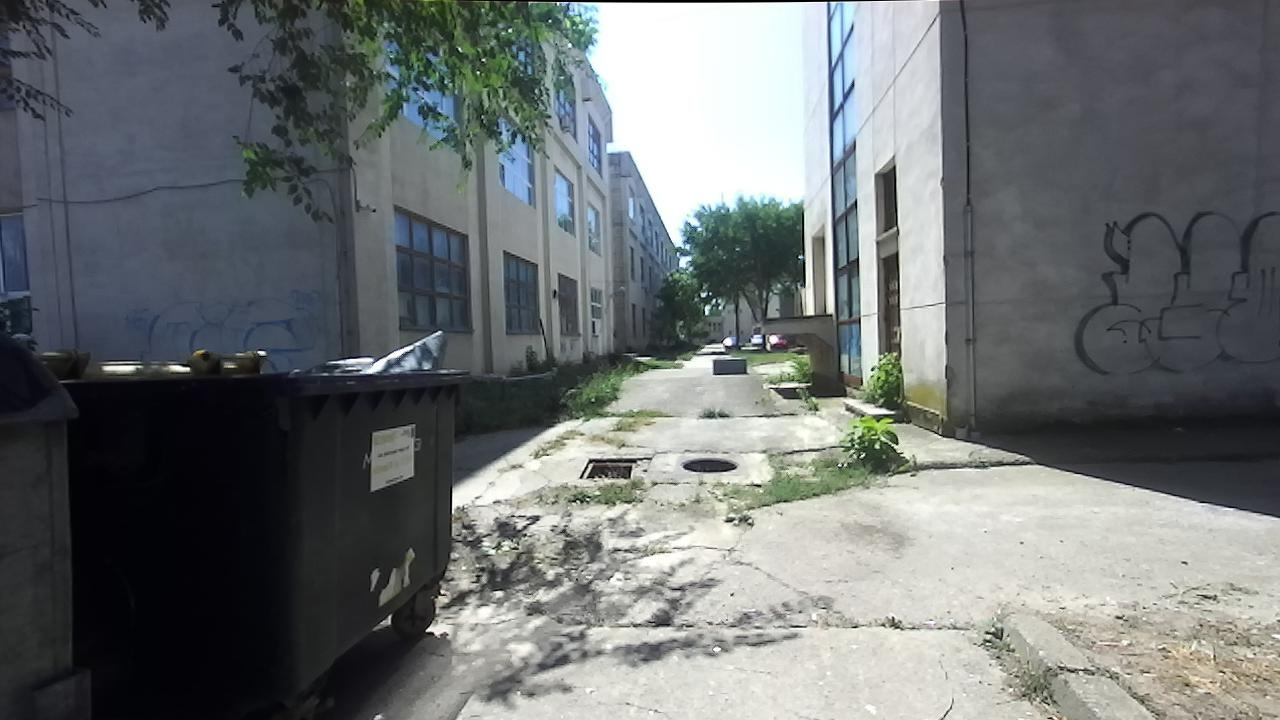drain: (574, 455, 635, 485), (676, 449, 737, 474)
